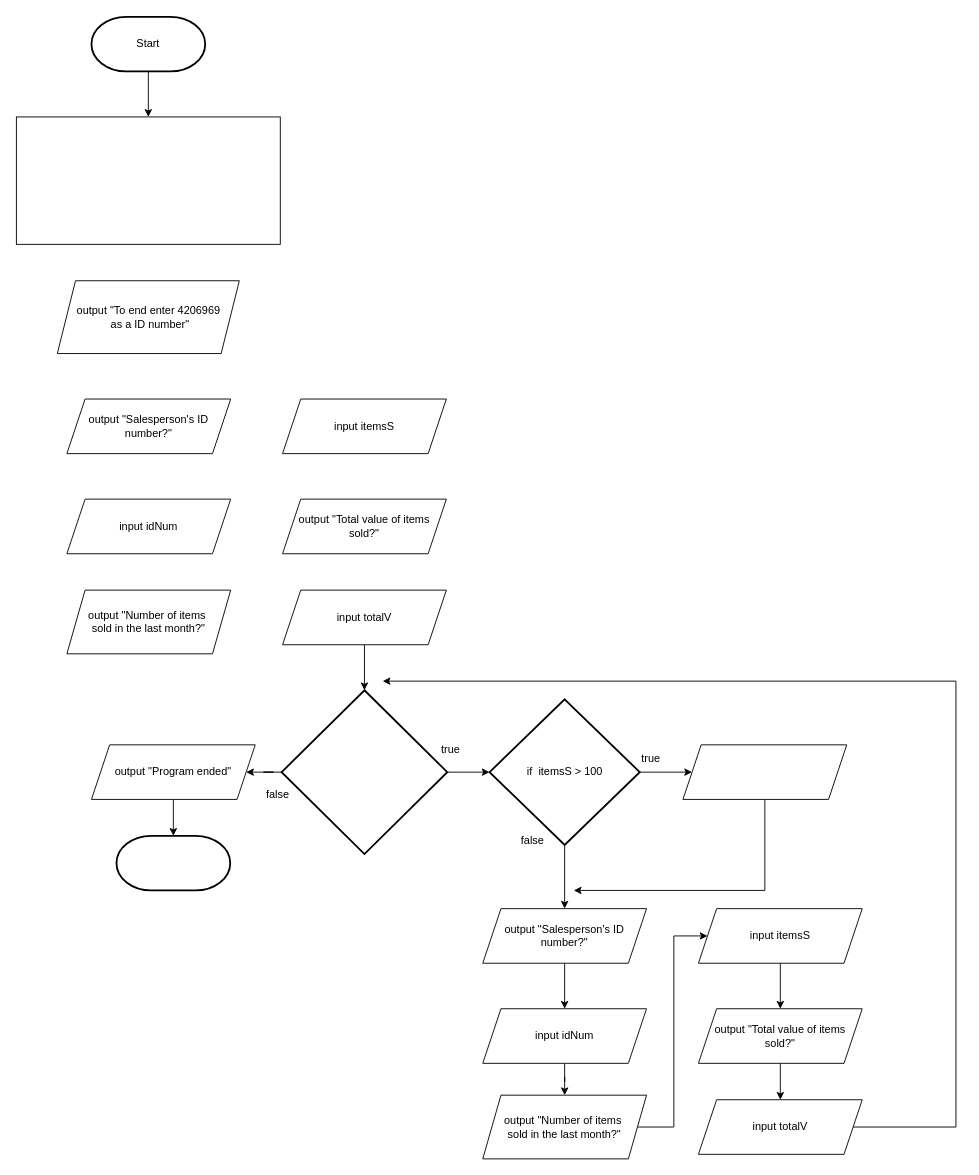
Some shapes in this 979 by 1175 pixel diagram are drawn without their labels. The shapes that lost their labels are listed below. From the top down, each one's centre as x and y in pixels, then its label:
At (x=147, y=180): "Declarations num idNum num itemsS num totalV num sentVal = 4206969".
At (x=364, y=771): "while idNum != 4206969".
At (x=764, y=771): "output idNum".
At (x=173, y=862): "end".
